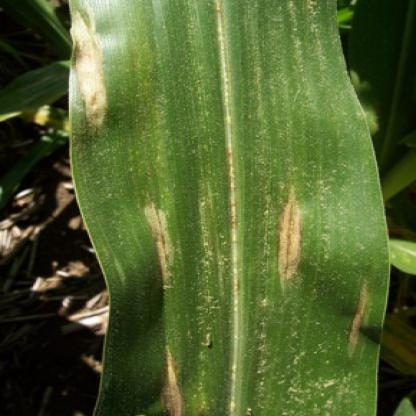corn leaf blight: (66, 1, 374, 415)
